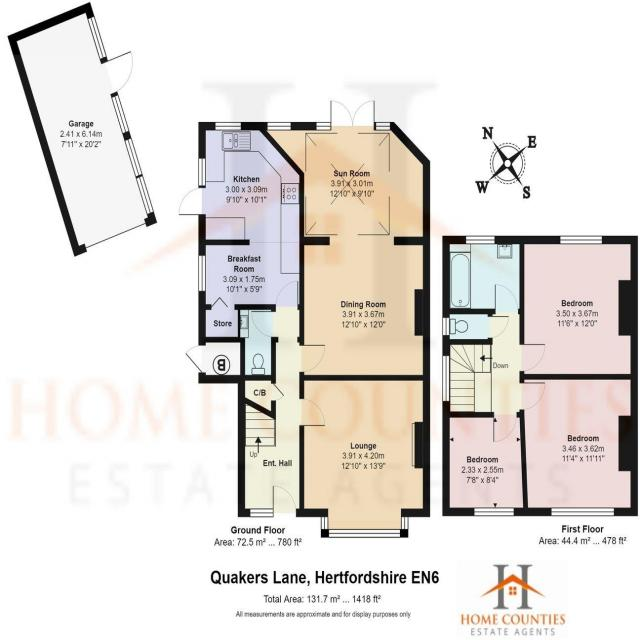DOOR: (519, 381, 547, 412), (519, 342, 547, 373), (492, 411, 518, 444), (178, 187, 206, 216), (299, 343, 326, 373), (494, 283, 519, 315), (272, 485, 297, 517), (299, 398, 326, 427), (249, 310, 276, 339), (275, 280, 299, 310), (488, 315, 510, 339)
ROOM: (178, 122, 305, 343), (299, 236, 430, 381), (519, 236, 638, 380), (519, 374, 638, 517), (442, 411, 529, 517)
WINDOW: (320, 516, 409, 538), (550, 506, 616, 518), (558, 235, 604, 246), (472, 506, 516, 517), (441, 355, 451, 403), (464, 235, 496, 245), (198, 255, 206, 292), (214, 121, 242, 131), (266, 121, 292, 131), (249, 508, 274, 518), (198, 157, 206, 187), (441, 316, 450, 337), (316, 121, 332, 131), (375, 121, 391, 131)
